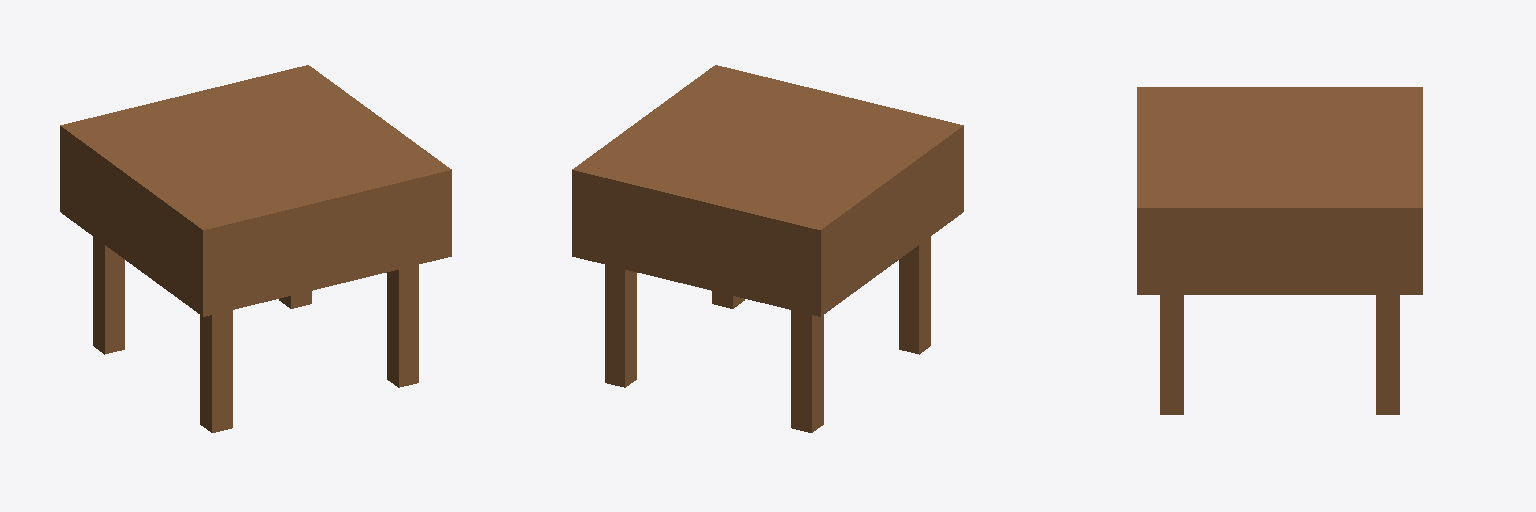
Rendered from table.obj.
The picture shows the model from 3 angles: view 1: azimuth 30°, elevation 25°; view 2: azimuth 150°, elevation 25°; view 3: azimuth 270°, elevation 25°; orthographic projection.
Visible parts, largest first — view 1: table_Cube.001; view 2: table_Cube.001; view 3: table_Cube.001.
Part boxes in pixels (x1,y1,x2,y2): table_Cube.001: (60, 65, 451, 432); table_Cube.001: (572, 65, 963, 432); table_Cube.001: (1137, 87, 1422, 414).
Bounding box in the file's own units: 0.75 × 0.625 × 0.75.